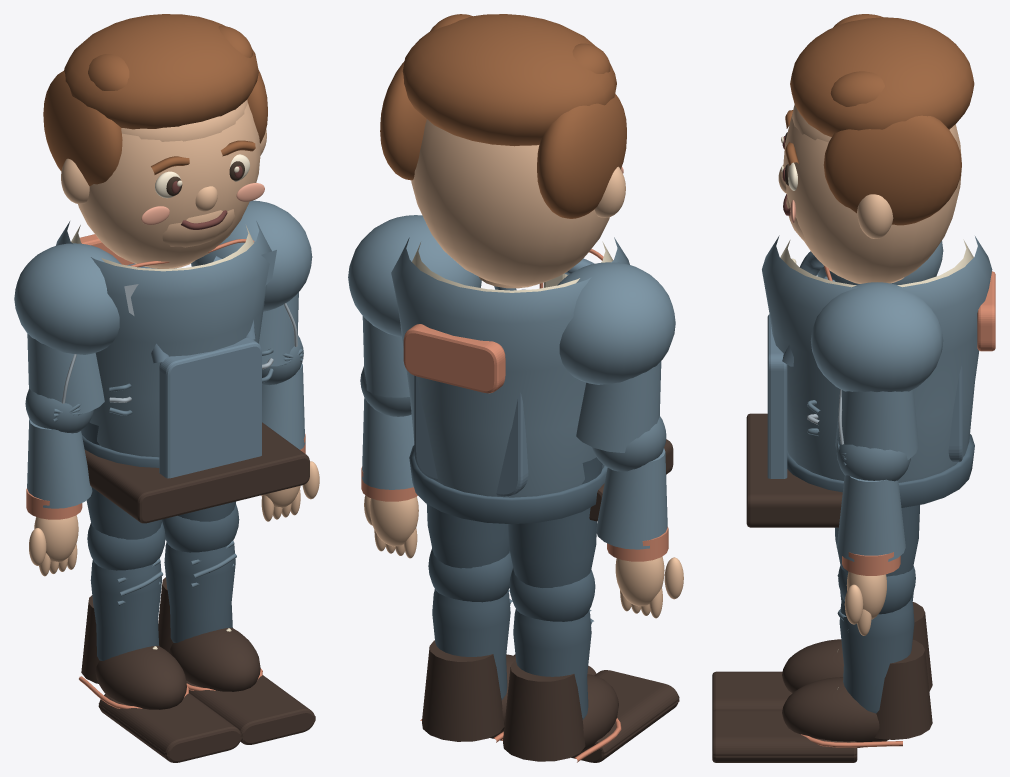
Rendered from pip.glb.
3 renders of one model, left to right at view 1: azimuth 30°, elevation 25°; view 2: azimuth 150°, elevation 25°; view 3: azimuth 270°, elevation 25°, orthographic. The views are drawn at different scales.
Parts seen in each view (by area): view 1: Tailored coat, Hair cap, Face, Apron panel, Tool belt, Shoulder -1, Sole -1, Trousers calf -1, Trousers calf 1, Side hair -1, Shoulder 1, Sole 1 (+25 smaller); view 2: Tailored coat, Hair cap, Face, Shoulder -1, Side hair -1, Shoulder 1, Boot shaft -1, Boot shaft 1, Trousers thigh -1, Trouser waistband, Sleeve forearm -1, Sleeve upper -1 (+22 smaller); view 3: Tailored coat, Hair cap, Shoulder 1, Side hair 1, Face, Tool belt, Sole 1, Trousers calf 1, Sleeve forearm 1, Leather toe 1, Sleeve upper 1, Boot shaft 1 (+19 smaller).
Boxes of the visible parts, box(x1,y1,x2,y2) form: Tailored coat: box(56, 221, 271, 457); Hair cap: box(64, 14, 258, 129); Face: box(78, 103, 260, 268); Apron panel: box(159, 338, 261, 478); Tool belt: box(84, 422, 309, 523); Shoulder -1: box(14, 243, 121, 354); Sole -1: box(98, 693, 241, 762); Trousers calf -1: box(90, 560, 161, 660); Trousers calf 1: box(164, 542, 235, 642); Side hair -1: box(43, 71, 122, 186); Shoulder 1: box(191, 200, 312, 311); Sole 1: box(186, 675, 315, 744); Tailored coat: box(391, 237, 629, 497); Hair cap: box(402, 14, 616, 146); Face: box(411, 119, 609, 286); Shoulder -1: box(557, 262, 675, 384); Side hair -1: box(537, 94, 626, 218); Shoulder 1: box(348, 215, 481, 337); Boot shaft -1: box(503, 660, 585, 761); Boot shaft 1: box(422, 640, 504, 741); Trousers thigh -1: box(508, 457, 602, 587); Trouser waistband: box(409, 445, 607, 524); Sleeve forearm -1: box(595, 448, 667, 549); Sleeve upper -1: box(576, 361, 661, 452); Tailored coat: box(762, 235, 992, 482); Hair cap: box(790, 17, 974, 136); Shoulder 1: box(810, 282, 943, 391); Side hair 1: box(823, 115, 961, 225); Face: box(783, 112, 961, 283); Tool belt: box(746, 413, 842, 527); Sole 1: box(712, 709, 857, 762); Trousers calf 1: box(839, 598, 914, 713); Sleeve forearm 1: box(836, 475, 905, 561); Leather toe 1: box(782, 677, 888, 747); Sleeve upper 1: box(835, 389, 918, 459); Boot shaft 1: box(875, 639, 932, 739).
Bounding box in the file's own units: 1.04 × 2.29 × 0.8462.
